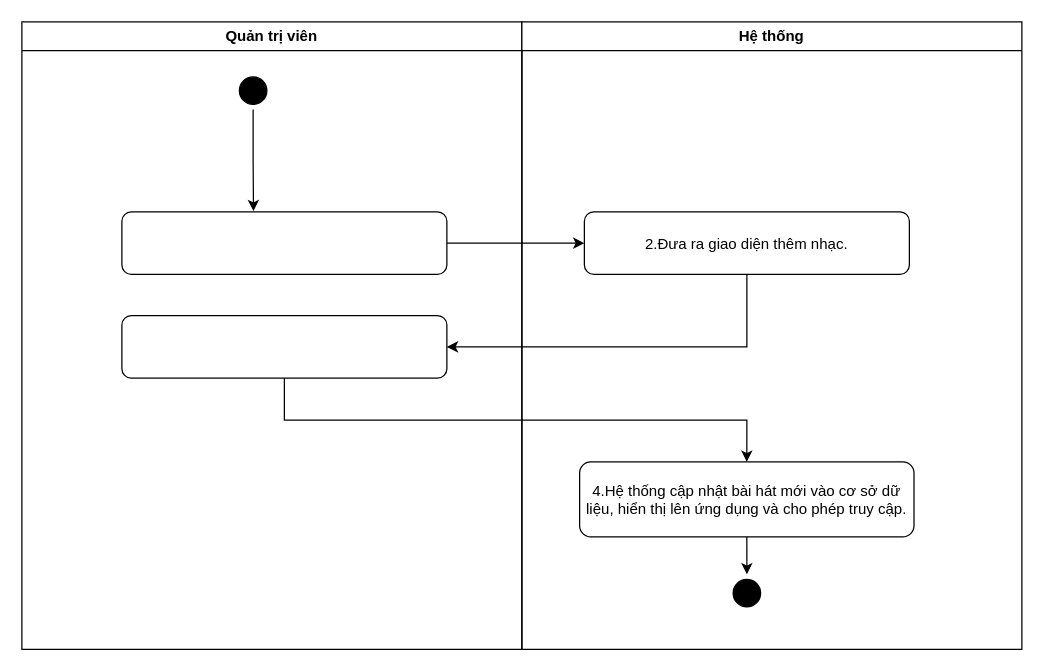
Some shapes in this 1044 by 671 pixel diagram are drawn without their labels. The shapes that lost their labels are listed below. From the top down, each one's centre as x and y in pixels, then its label:
point (284, 242): 1.Chọn 1 bài hát trên trang chủ.
point (284, 346): 3.Điền thông tin của bài hát được thêm và chọn đăng tải.
